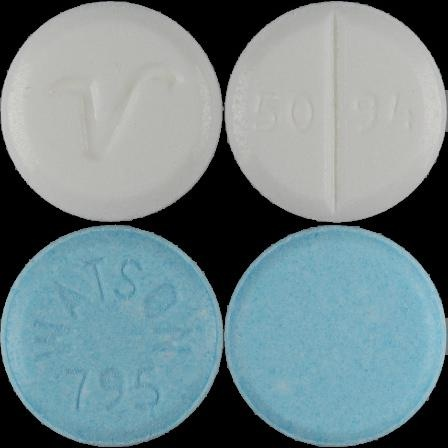60760-629: (0, 0, 224, 224)
